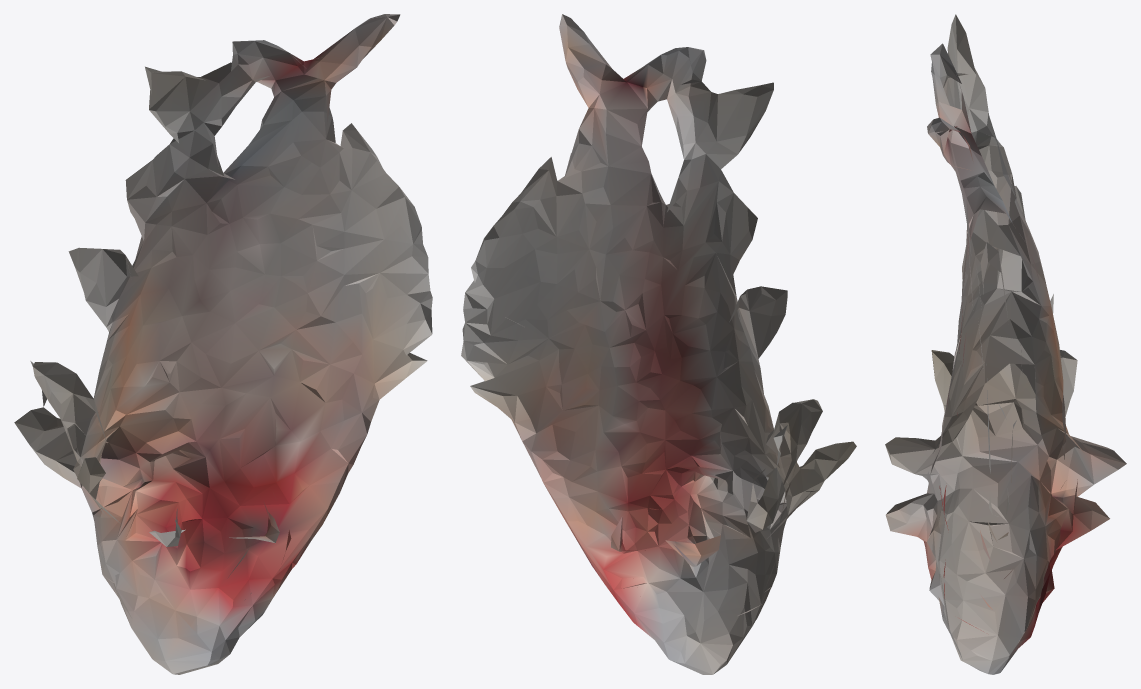
File: fish-neontetra.glb
3 views of the same model, side by side, from view 1: azimuth 30°, elevation 25°; view 2: azimuth 150°, elevation 25°; view 3: azimuth 270°, elevation 25° (orthographic). The views are drawn at different scales.
Parts seen in each view (by area): view 1: world; view 2: world; view 3: world.
Boxes of the visible parts, x1,y1,x2,y2 form: world: (14,14,432,674); world: (461,14,856,674); world: (885,14,1126,674).
Size of the model in its own units: 0.6029 by 0.9441 by 0.3263.
